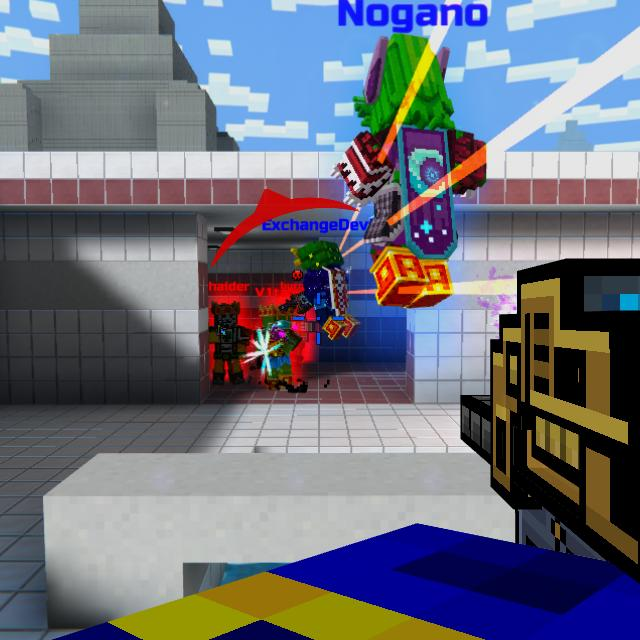Enemy: (253, 308, 302, 390), (208, 303, 253, 386)
